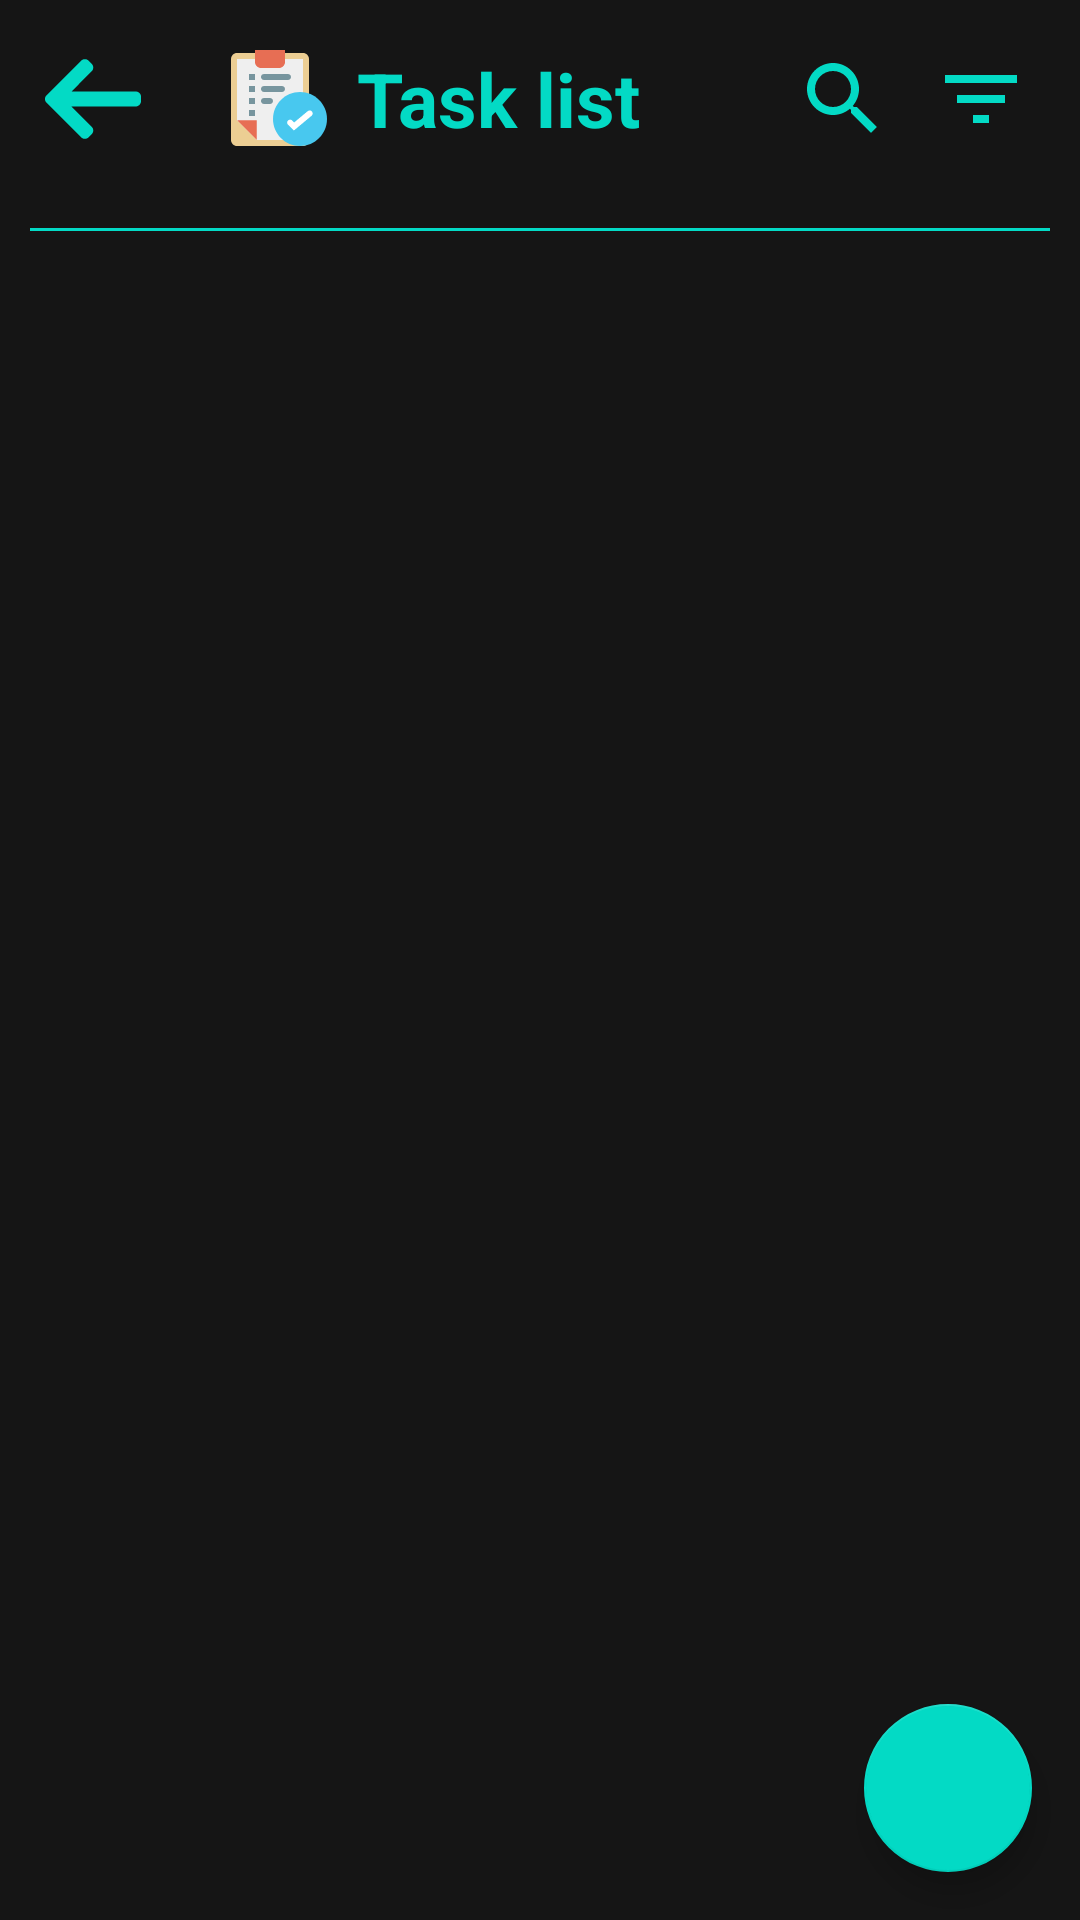

Point at icon controls on the screen. Image size 1080 x 1920, points as point (x, y).
back: point (93, 99)
filter list: point (981, 99)
search: point (842, 98)
